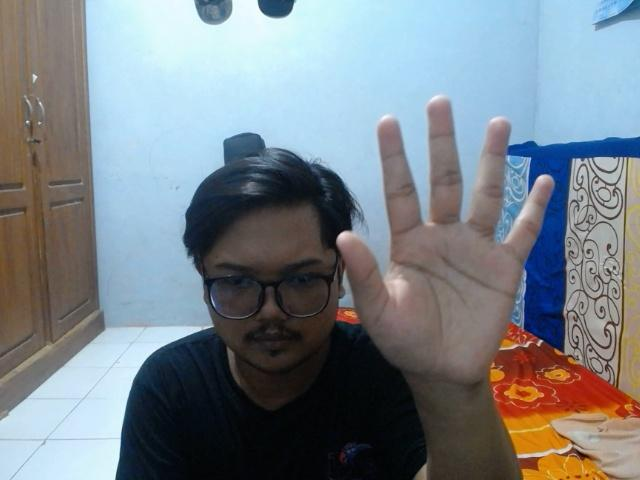Release: (330, 89, 559, 390)
